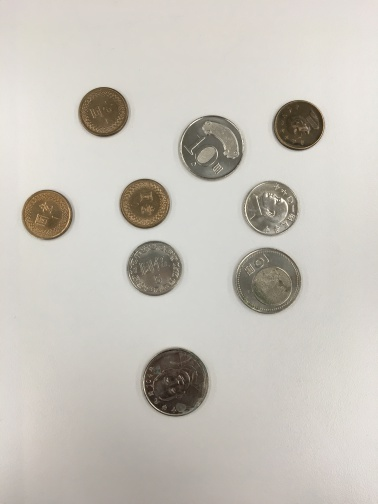1 dollar: (16, 174, 81, 249), (72, 79, 139, 147), (265, 91, 334, 156), (110, 167, 176, 233)
10 dollar: (125, 330, 228, 431), (226, 239, 321, 324), (174, 107, 249, 191)
5 dollar: (231, 173, 310, 238), (120, 236, 197, 301)
